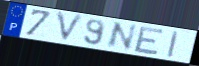7: (26, 8, 54, 38)
9: (83, 18, 106, 47)
E: (133, 25, 166, 56)
I: (165, 30, 180, 59)
N: (104, 21, 139, 51)
V: (55, 11, 86, 45)
